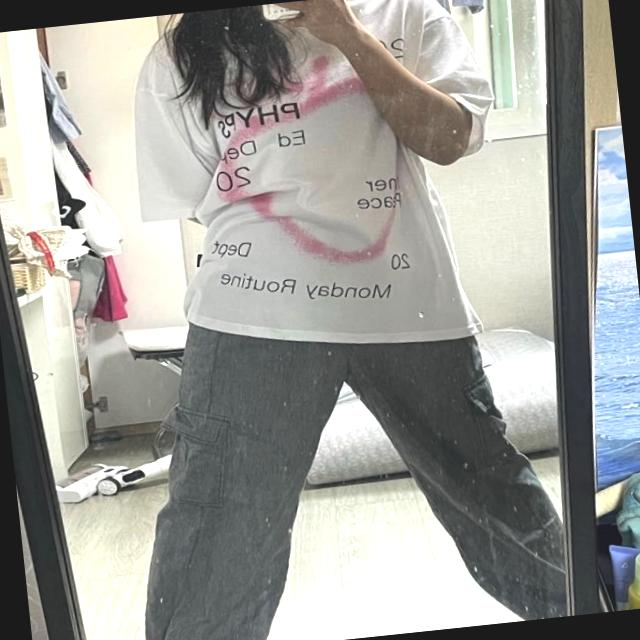cottonpants: (106, 287, 568, 640)
shortsleeve: (114, 0, 510, 367)
